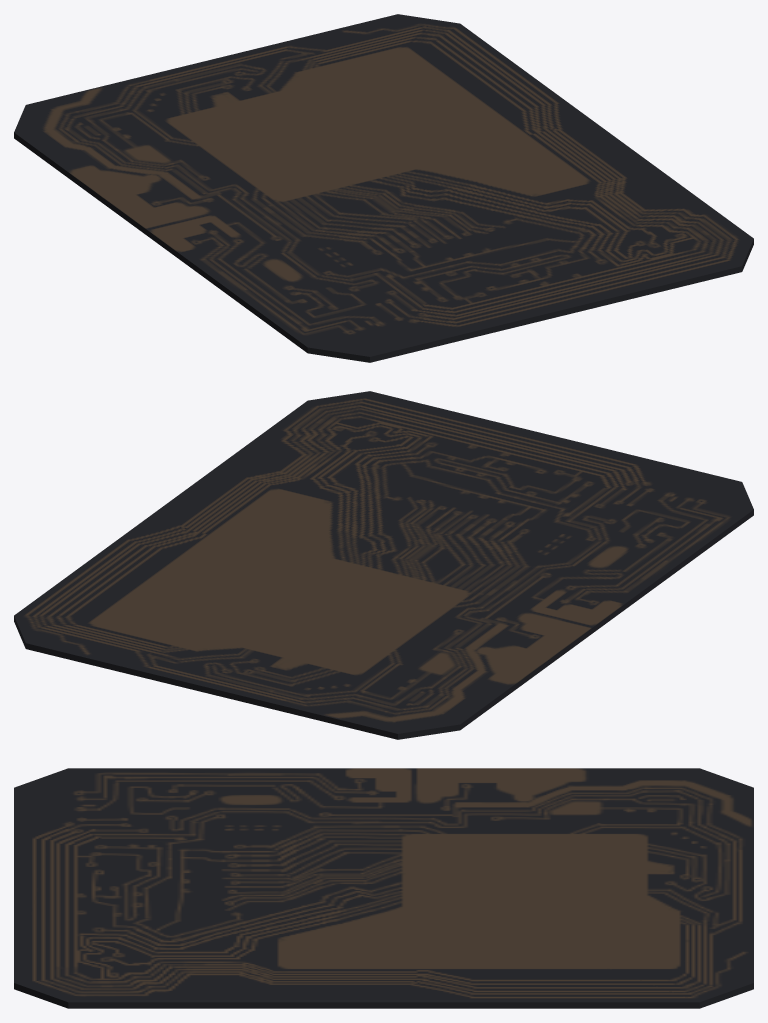
The model's file is Circuit.fbx.
3 renders of one model, top to bottom at view 1: azimuth 30°, elevation 25°; view 2: azimuth 150°, elevation 25°; view 3: azimuth 270°, elevation 25°, orthographic. The views are drawn at different scales.
Visible parts, largest first — view 1: circuit; view 2: circuit; view 3: circuit.
Boxes of the visible parts, box(x1,y1,x2,y2) form: circuit: box(14, 14, 753, 362); circuit: box(14, 391, 753, 739); circuit: box(14, 768, 753, 1008).
Size of the model in its own units: 1.37 by 0.0174 by 1.84.
